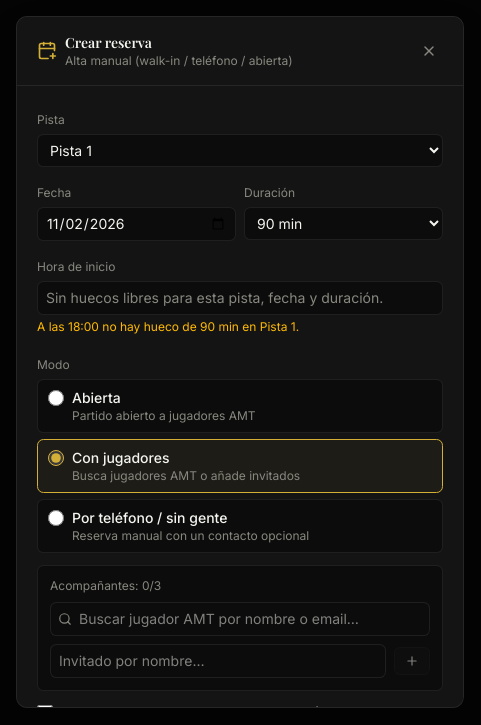
Test: BookingCreateDialog › si la hora del calendario no cabe con esa duración, lo dice; con una en que cabe, vuelve
Check: the message reads "A las 18:00 no hay hueco de 90 min en Pista 1.", box [37,319,299,334]
Select "60 min" in the dropdown showing "90 min" at (344, 224), box [244,207,443,240]
(page scrolled)
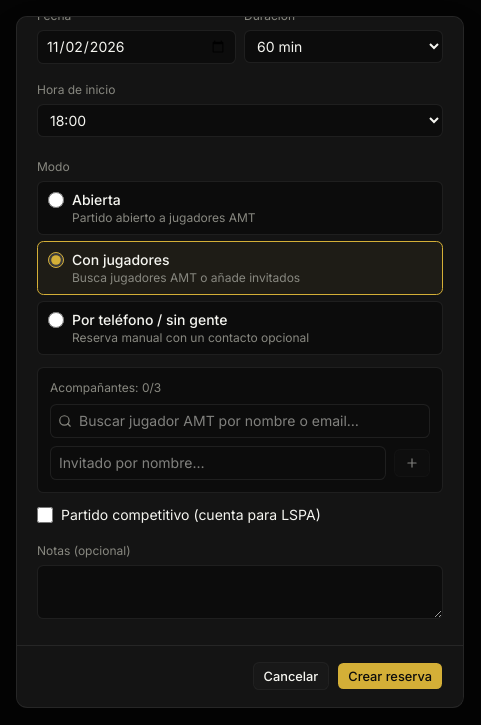
Check: the button "Crear reserva" is enabled, box [337,662,443,690]
Check: the dropdown showing "18:00" shows "18:00", box [37,104,443,137]
Check: the message "A las 18:00 no hay hueco de 90 min en Pista 1." is gone
